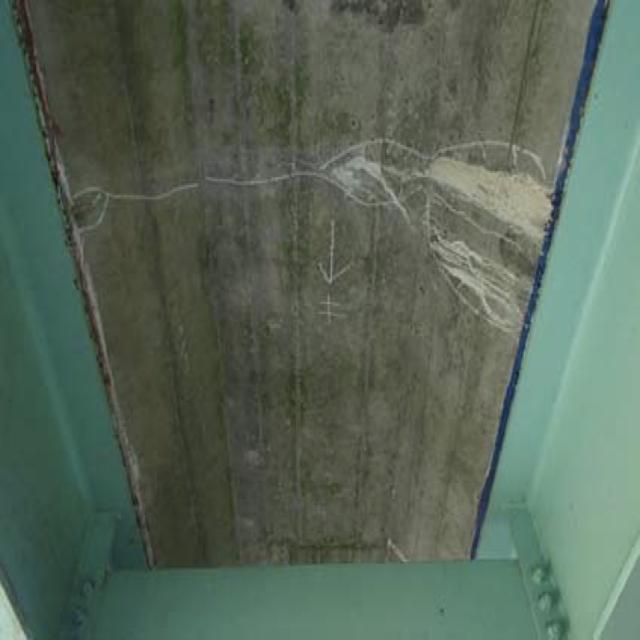freelime: (341, 124, 553, 310)
spalling: (60, 156, 119, 271)
